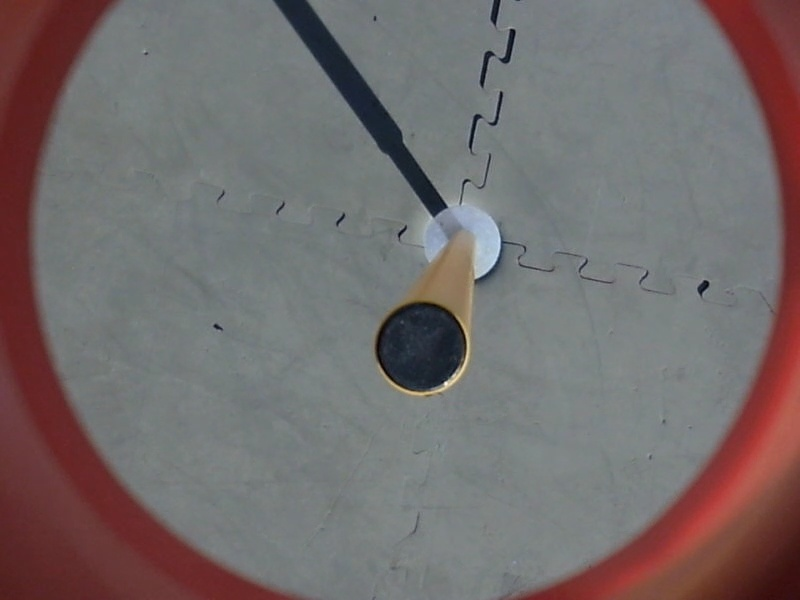tip: (372, 294, 474, 399)
